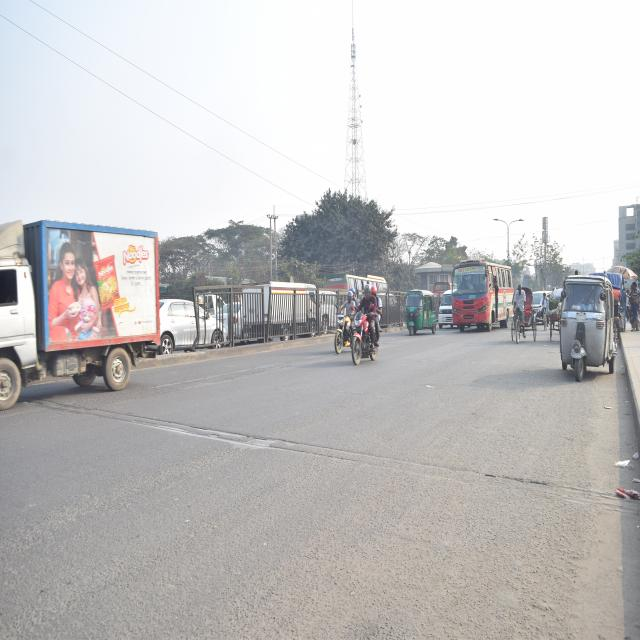bus: (451, 256, 515, 340)
microbus: (434, 288, 456, 328), (530, 282, 546, 330)
motorbike: (347, 305, 388, 365), (327, 300, 352, 358)
pickup-van: (0, 204, 166, 418)
